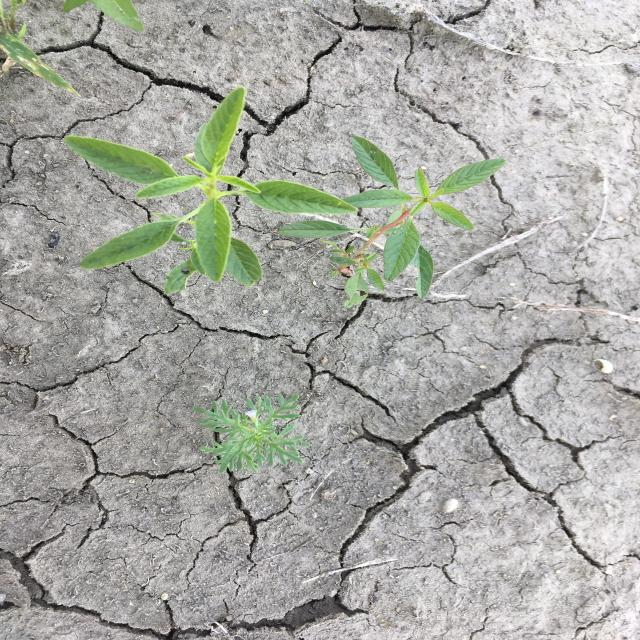Ragweed: (191, 393, 314, 475)
Waterhemp: (60, 86, 359, 296), (276, 133, 508, 310)
